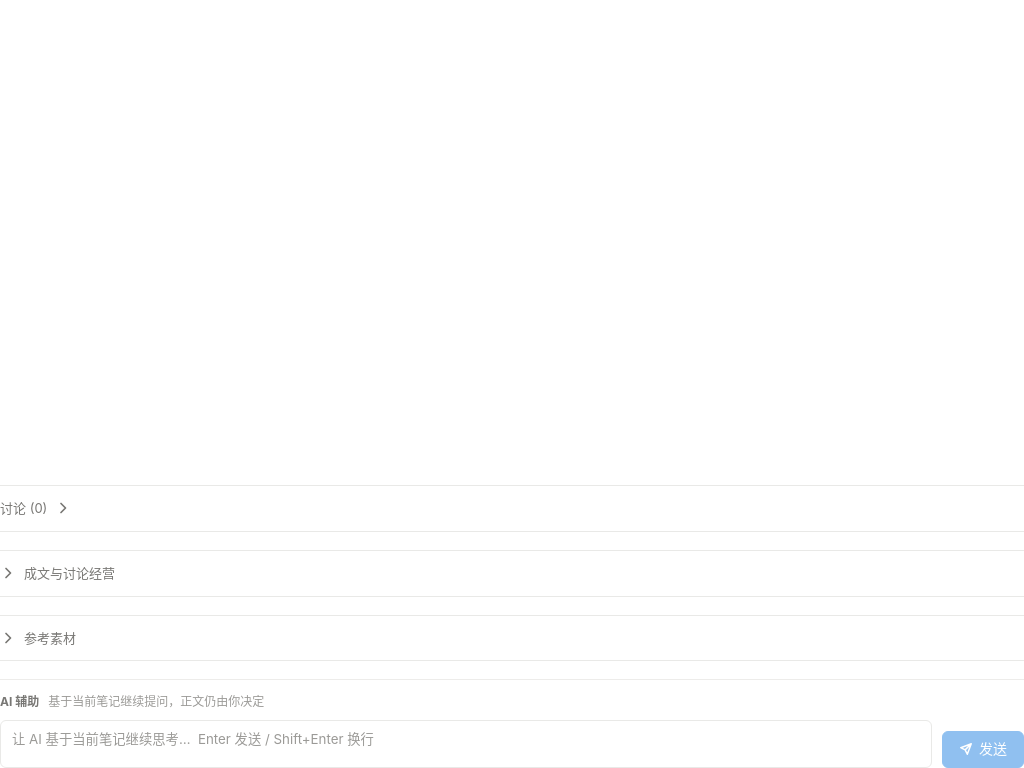
it: MainDoc fork flow › dismisses a route suggestion without migrating the direct global derivation
(page scrolled)
Type "继续" into the text box named "chat-input" at [466, 744], box [0,720,932,767]
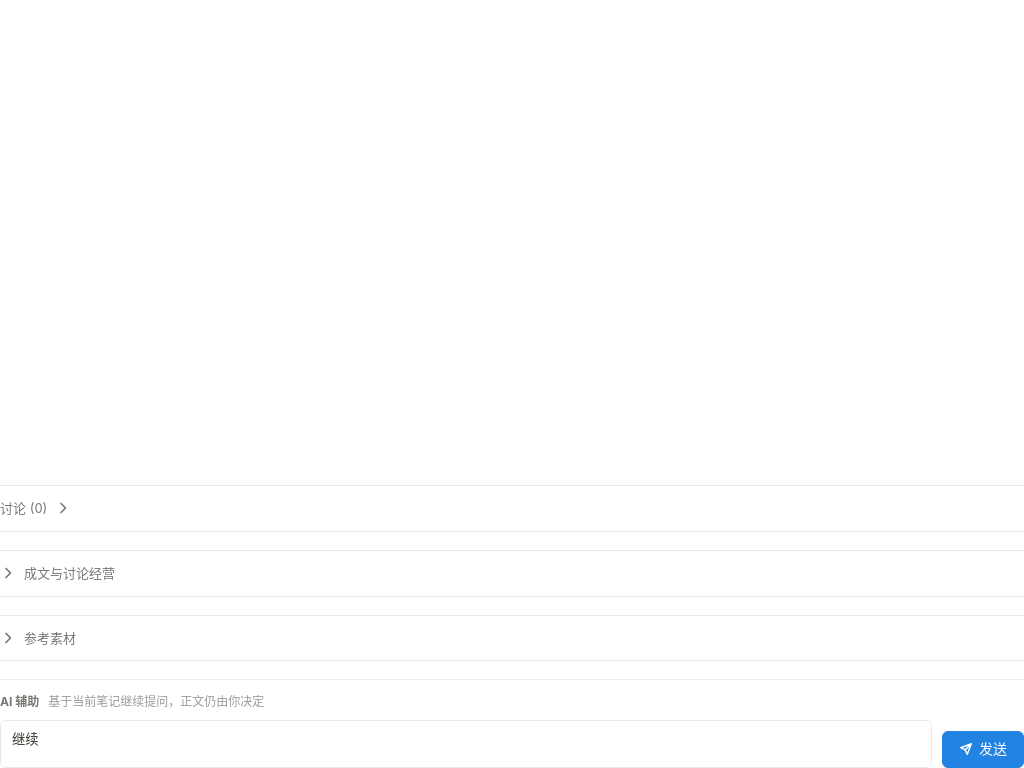
Click the button "发送" at [983, 749], box [942,731,1023,767]
(page scrolled)
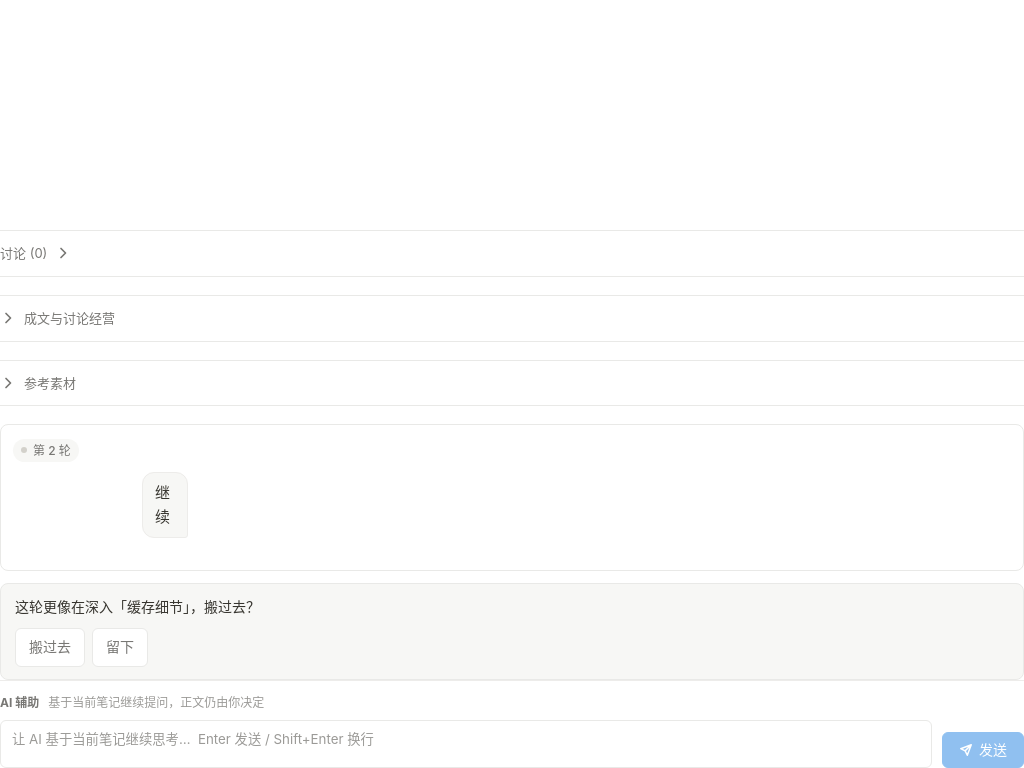
Click the button "留下" at [120, 648], box [92,628,148,667]
(page scrolled)
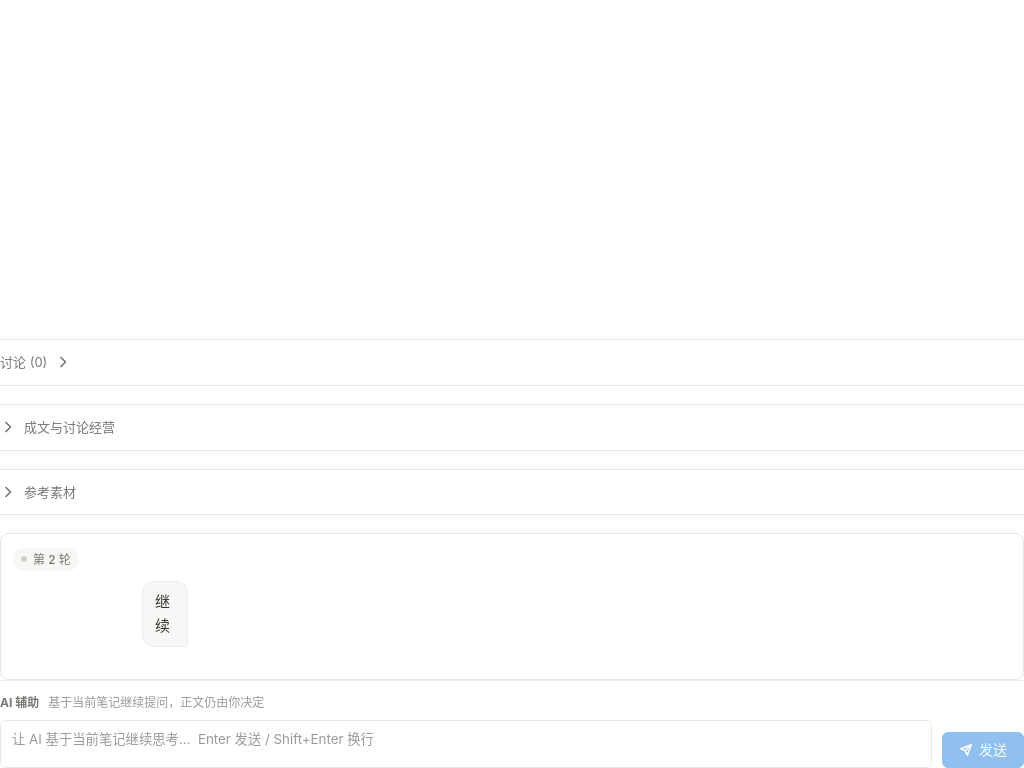
Expected: the button "留下" is gone
